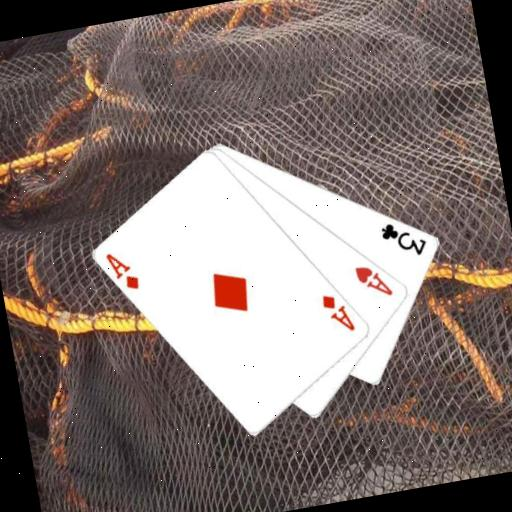3C: (376, 214, 431, 263)
AD: (101, 245, 142, 295), (318, 287, 358, 337)
AH: (351, 257, 396, 302)
